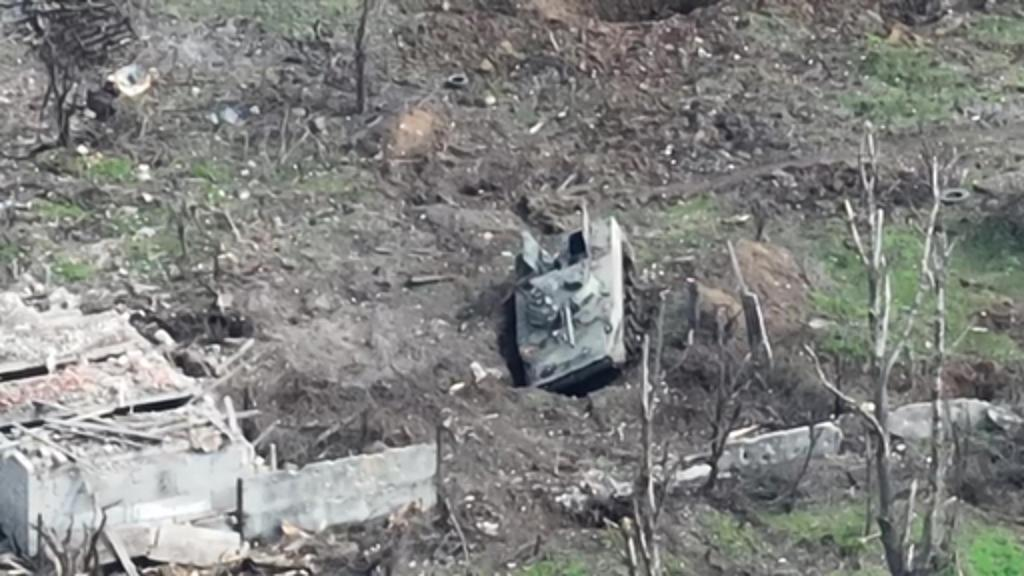APC-IFV: (502, 202, 650, 404)
